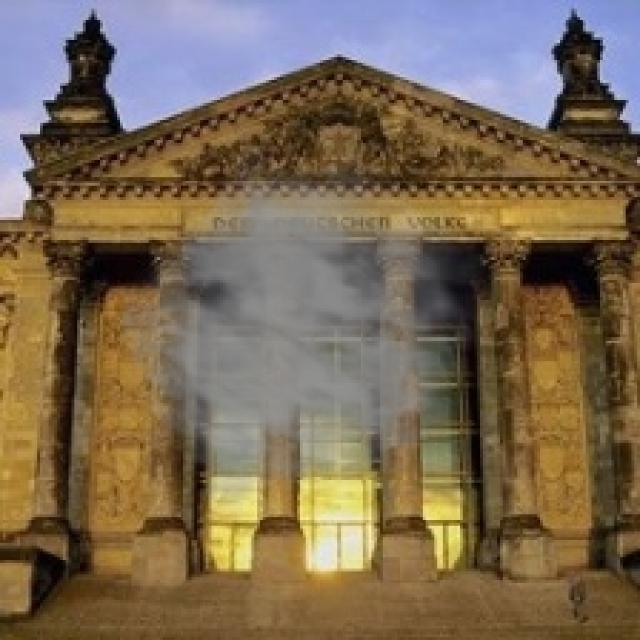Smoke: (117, 142, 506, 498)
